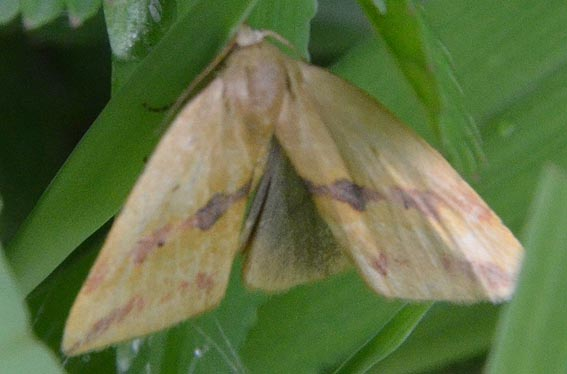Noctuidae: (57, 19, 526, 356)
